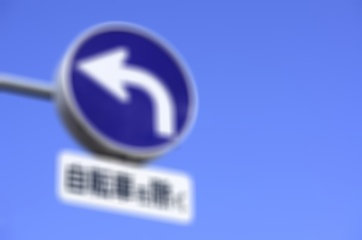Direction_sign: (66, 14, 195, 164)
